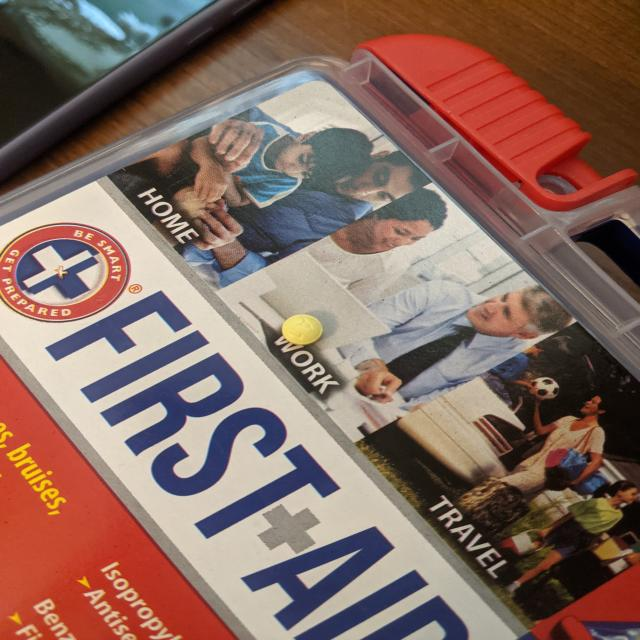non-organic waste: (280, 314, 324, 346)
